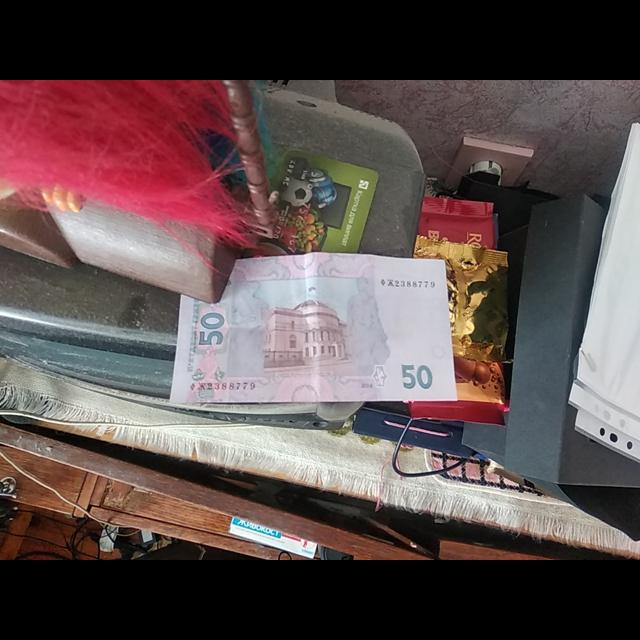50uah: (178, 258, 448, 400)
